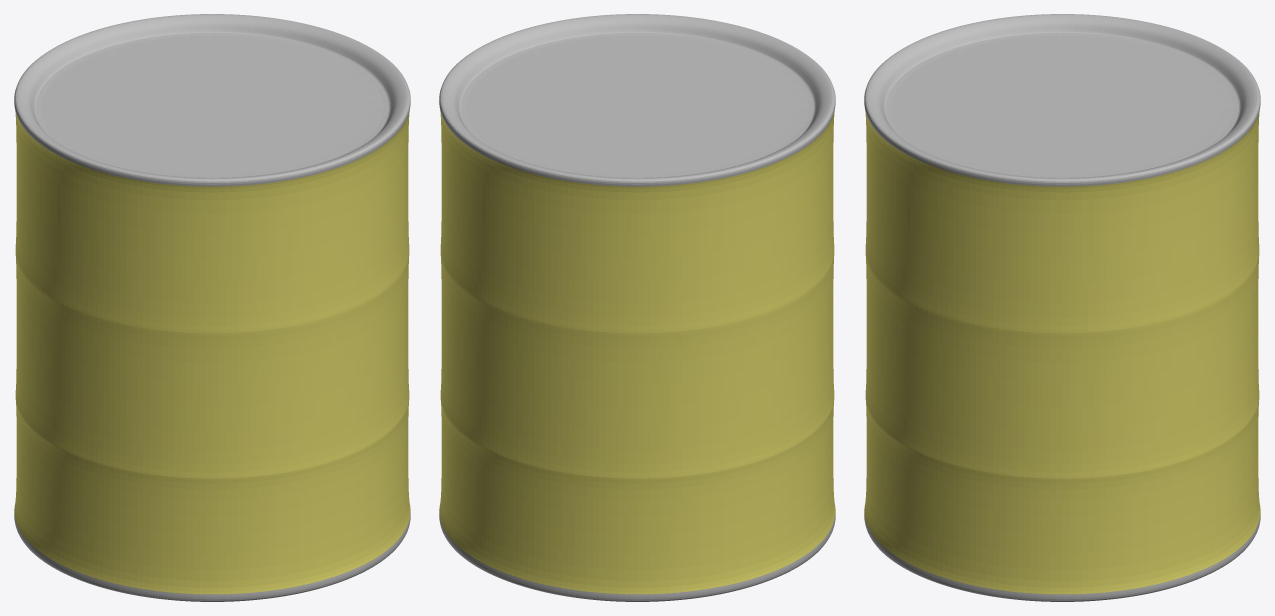
File: Barrel.fbx
3 views of the same model, side by side, from view 1: azimuth 30°, elevation 25°; view 2: azimuth 150°, elevation 25°; view 3: azimuth 270°, elevation 25° (orthographic).
Parts seen in each view (by area): view 1: Cylinder; view 2: Cylinder; view 3: Cylinder.
Boxes of the visible parts, x1=… form: Cylinder: x1=14, y1=14, x2=410, y2=601; Cylinder: x1=439, y1=14, x2=835, y2=601; Cylinder: x1=864, y1=14, x2=1260, y2=601.
Bounding box in the file's own units: 202 × 238 × 202.
